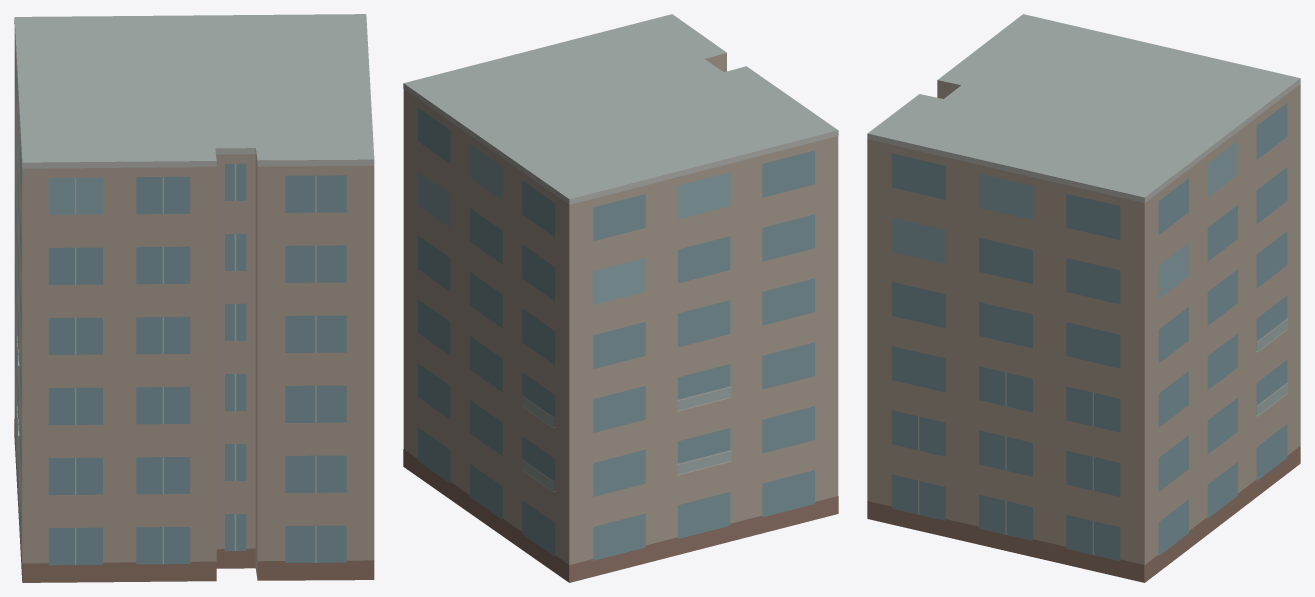
Rendered from survey-upis-32846935.glb.
3 renders of one model, left to right at view 1: azimuth 30°, elevation 25°; view 2: azimuth 150°, elevation 25°; view 3: azimuth 270°, elevation 25°, orthographic. The views are drawn at different scales.
Visible parts, largest first — view 1: survey-upis-32846935.tmp; view 2: survey-upis-32846935.tmp; view 3: survey-upis-32846935.tmp.
Boxes of the visible parts, bbox=[...] form: survey-upis-32846935.tmp: bbox=[14, 14, 374, 582]; survey-upis-32846935.tmp: bbox=[403, 14, 838, 582]; survey-upis-32846935.tmp: bbox=[867, 14, 1300, 582].
Size of the model in its own units: 17.28 by 16.9 by 17.23.
